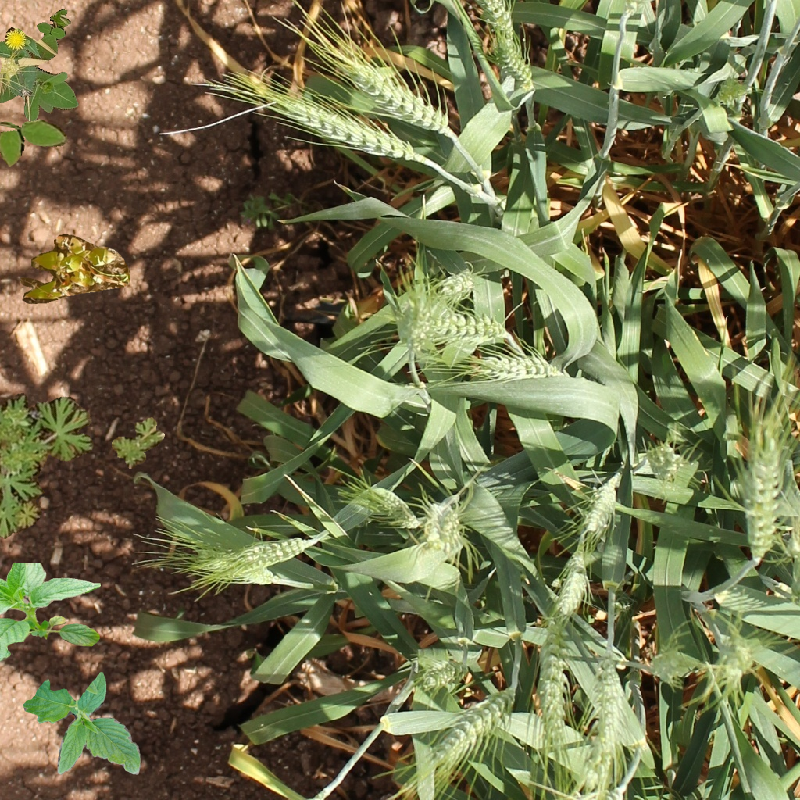spikelet: (264, 88, 423, 164), (340, 54, 455, 135), (739, 409, 789, 563), (422, 686, 513, 768), (391, 266, 480, 347), (583, 649, 629, 786), (533, 614, 576, 736), (415, 302, 510, 347), (189, 544, 281, 586), (468, 347, 572, 384), (354, 478, 421, 530), (222, 531, 316, 568), (578, 472, 623, 534), (489, 31, 536, 89), (420, 495, 467, 553), (710, 629, 756, 681), (553, 557, 593, 616), (411, 653, 467, 691), (640, 439, 685, 481), (435, 265, 480, 303), (469, 1, 517, 36), (711, 73, 750, 110)
weed: (1, 392, 95, 543), (23, 672, 141, 775), (1, 1, 77, 159), (1, 563, 101, 662), (20, 234, 130, 304), (1, 112, 71, 177), (112, 417, 165, 469)
